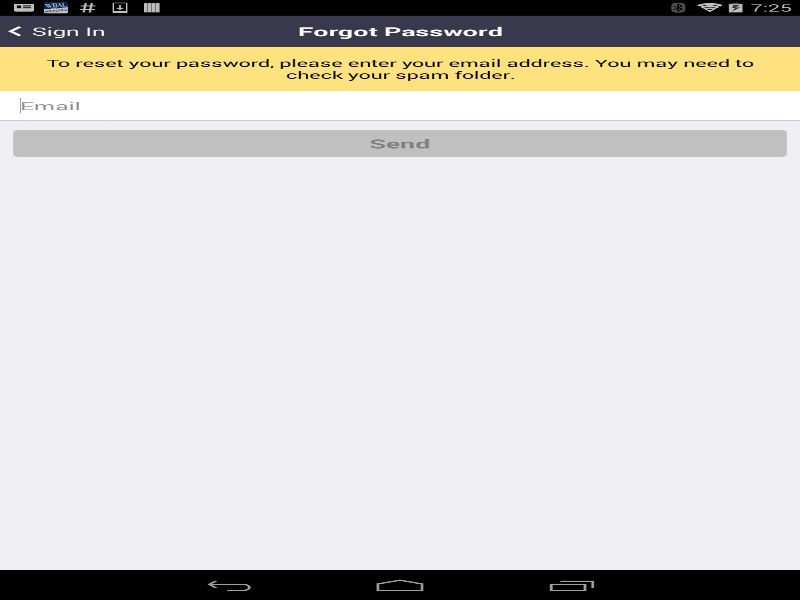Button: (13, 130, 786, 156), (4, 19, 111, 43)
Input: (0, 90, 800, 120)
